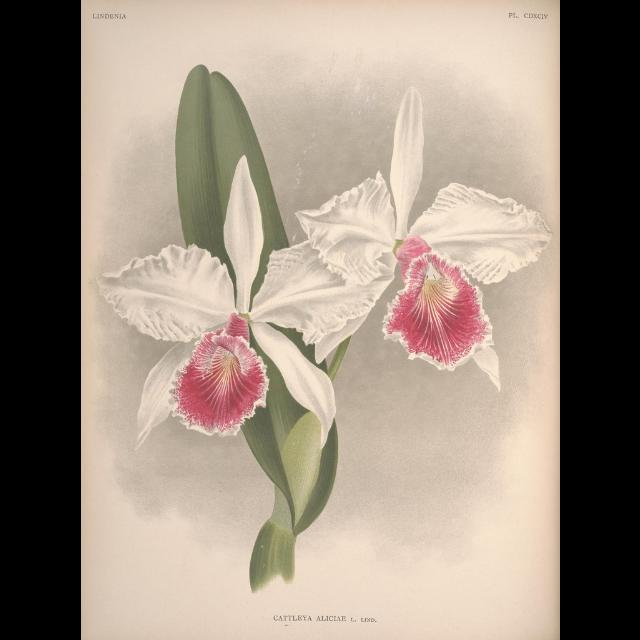Flower: (93, 159, 393, 449), (297, 88, 553, 388)
